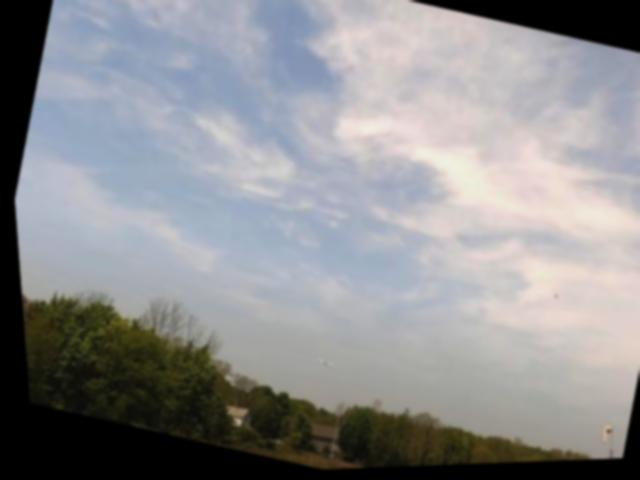iha: (304, 354, 338, 375)
